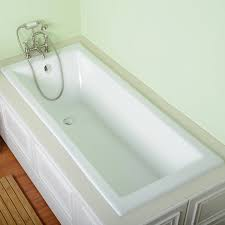bathub: (2, 33, 225, 225)
